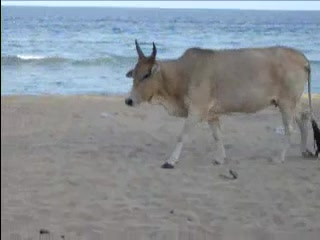cow: (121, 41, 319, 179)
